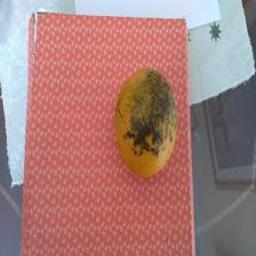Orange Semirotten: (95, 61, 208, 205)
